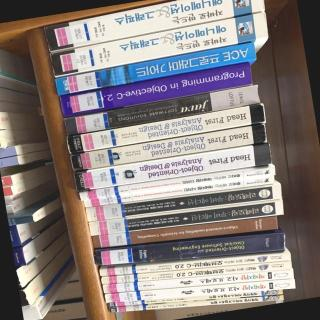book-spine: (50, 12, 269, 76), (43, 0, 265, 52), (59, 62, 253, 116), (55, 42, 256, 94), (66, 104, 266, 154), (64, 85, 260, 136), (70, 124, 267, 171), (73, 145, 272, 191), (85, 184, 282, 222), (88, 200, 283, 235), (78, 167, 276, 201), (94, 233, 285, 265), (91, 216, 278, 248), (84, 176, 274, 207), (101, 262, 292, 285), (102, 270, 293, 293), (105, 280, 295, 303), (98, 254, 291, 276), (106, 290, 283, 307), (108, 295, 283, 312)
